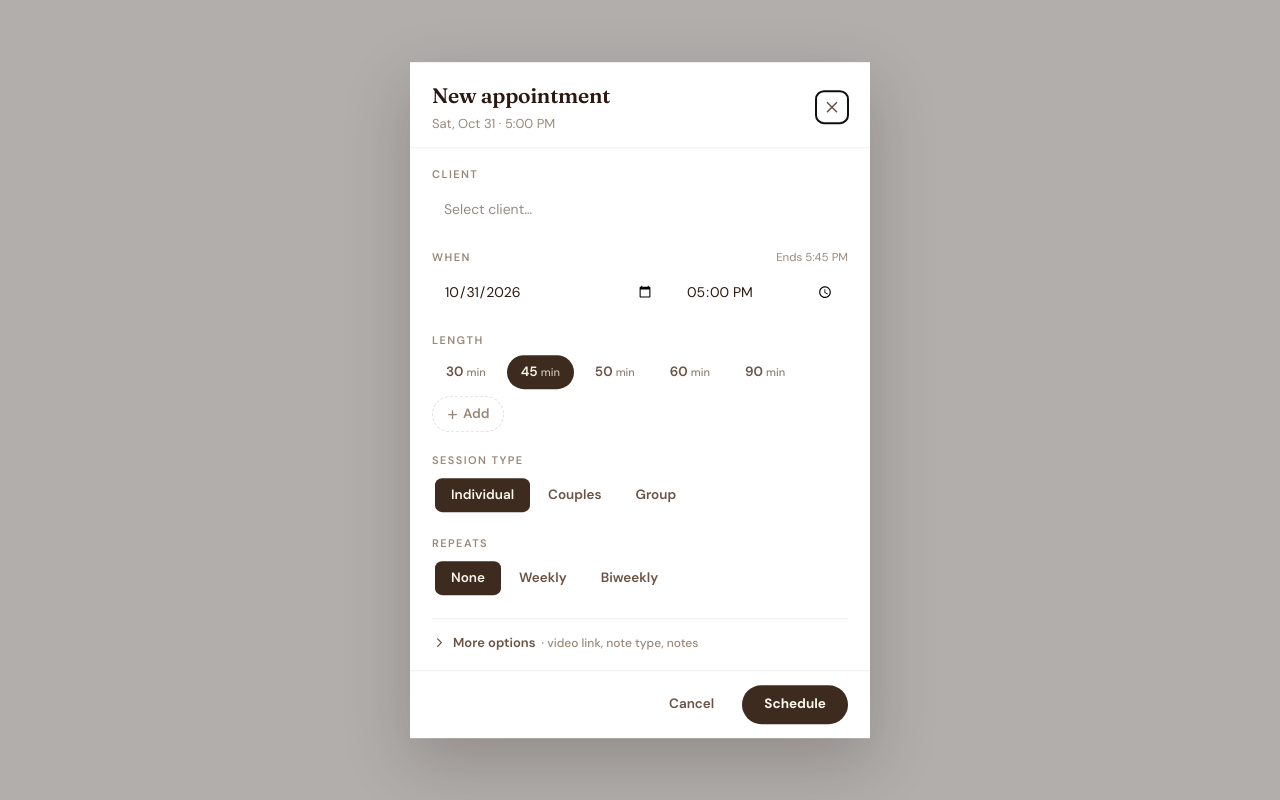
Test: AppointmentModal › tucks video link, note type, and notes behind More options
What coordinates should you click on to do the following:
click the button "More options · video link, note type, notes"
I would click on:
 (565, 643)
Its box is [432,633,698,653].
(page scrolled)
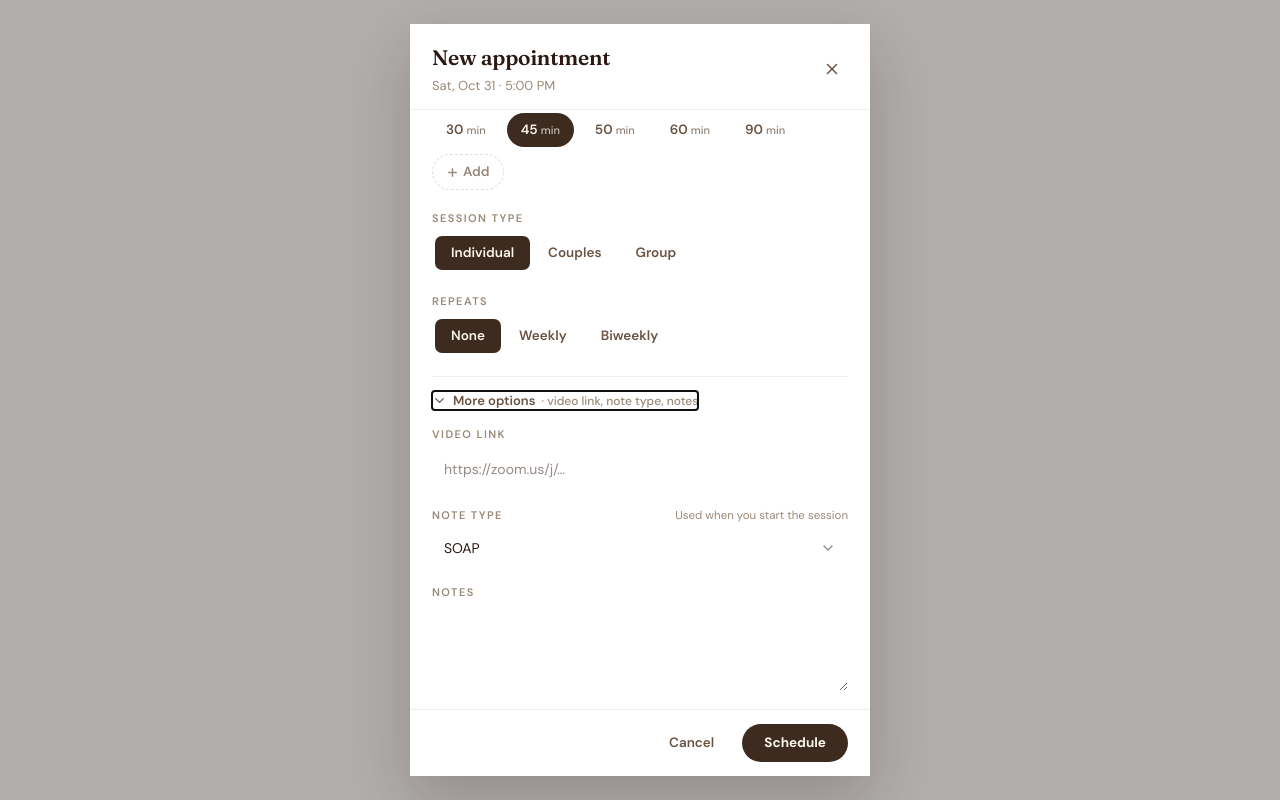
expect the field named "Video link" is shown: met, box [432,449,848,489]
expect the dropdown named "note type" is shown: met, box [432,530,848,566]
expect the text box named "Notes" is shown: met, box [432,607,848,691]
